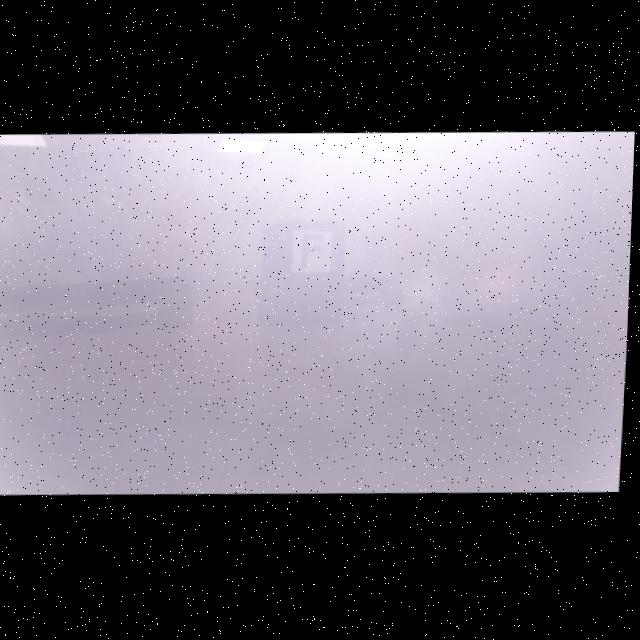F: (303, 236, 325, 269)
